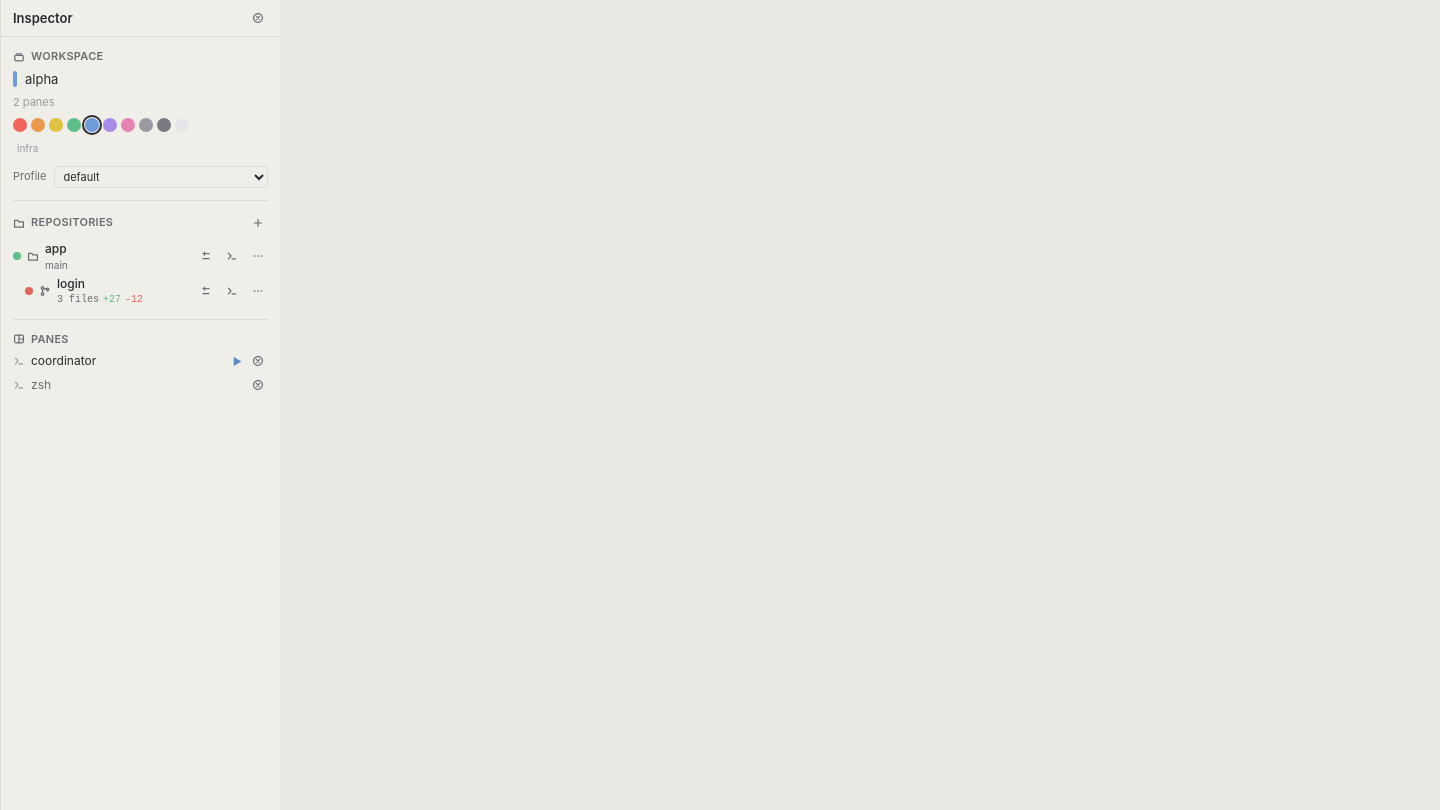
Test: repository associations (§WS-139…§WS-142) › adds a repository by path, keeping the sheet open on the daemon’s refusal
This screenshot has width=1440, height=810.
Click the button with test id "inspector-add-repo" at point(258, 223), box [248,213,268,233]
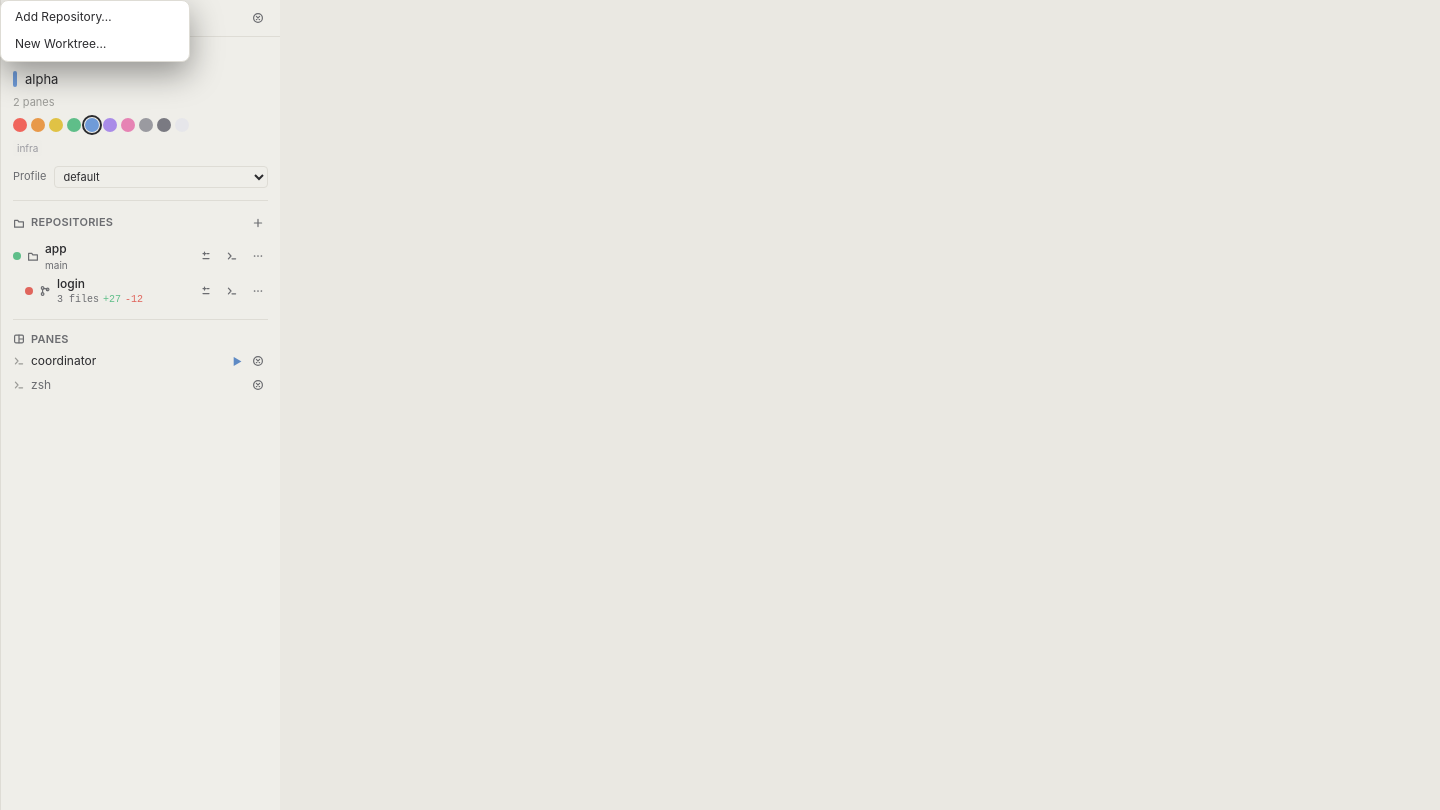
Click the menu item "Add Repository…" at point(95, 17), box [5,5,185,30]
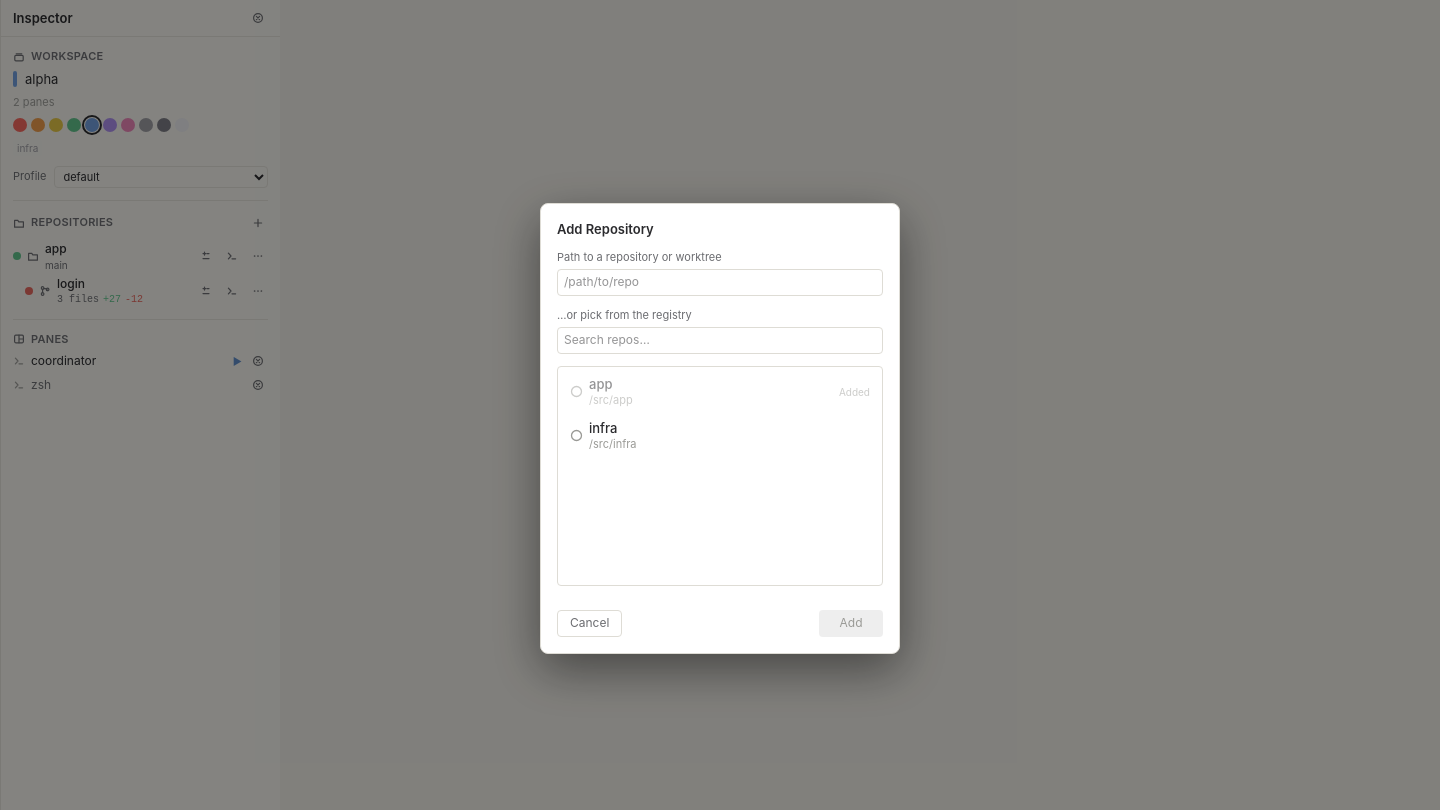
Type "/tmp/x" into the field with test id "add-repo-path" at point(720, 282), box [557,269,883,296]
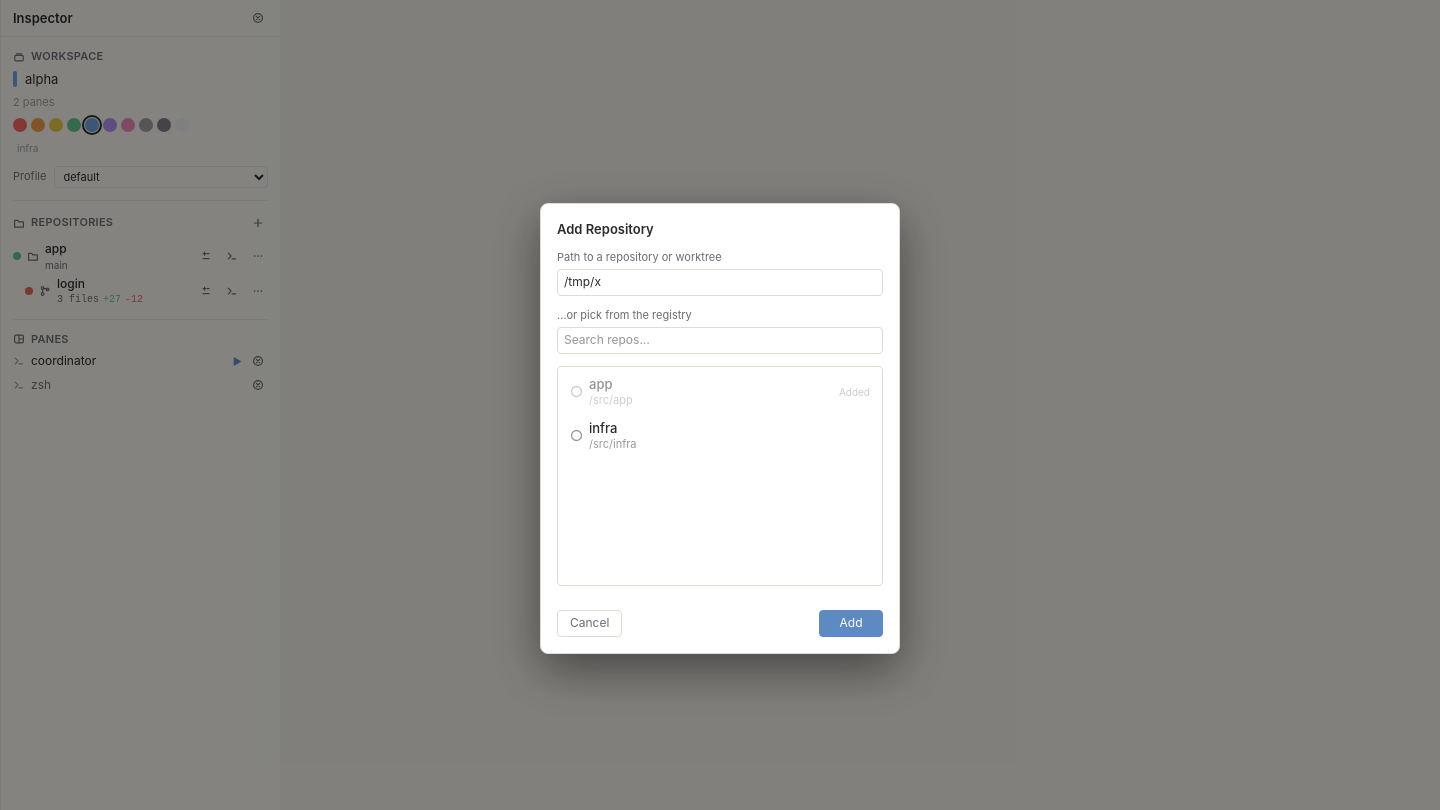
Click the button with test id "add-repo-submit" at point(851, 624), box [819,610,883,637]
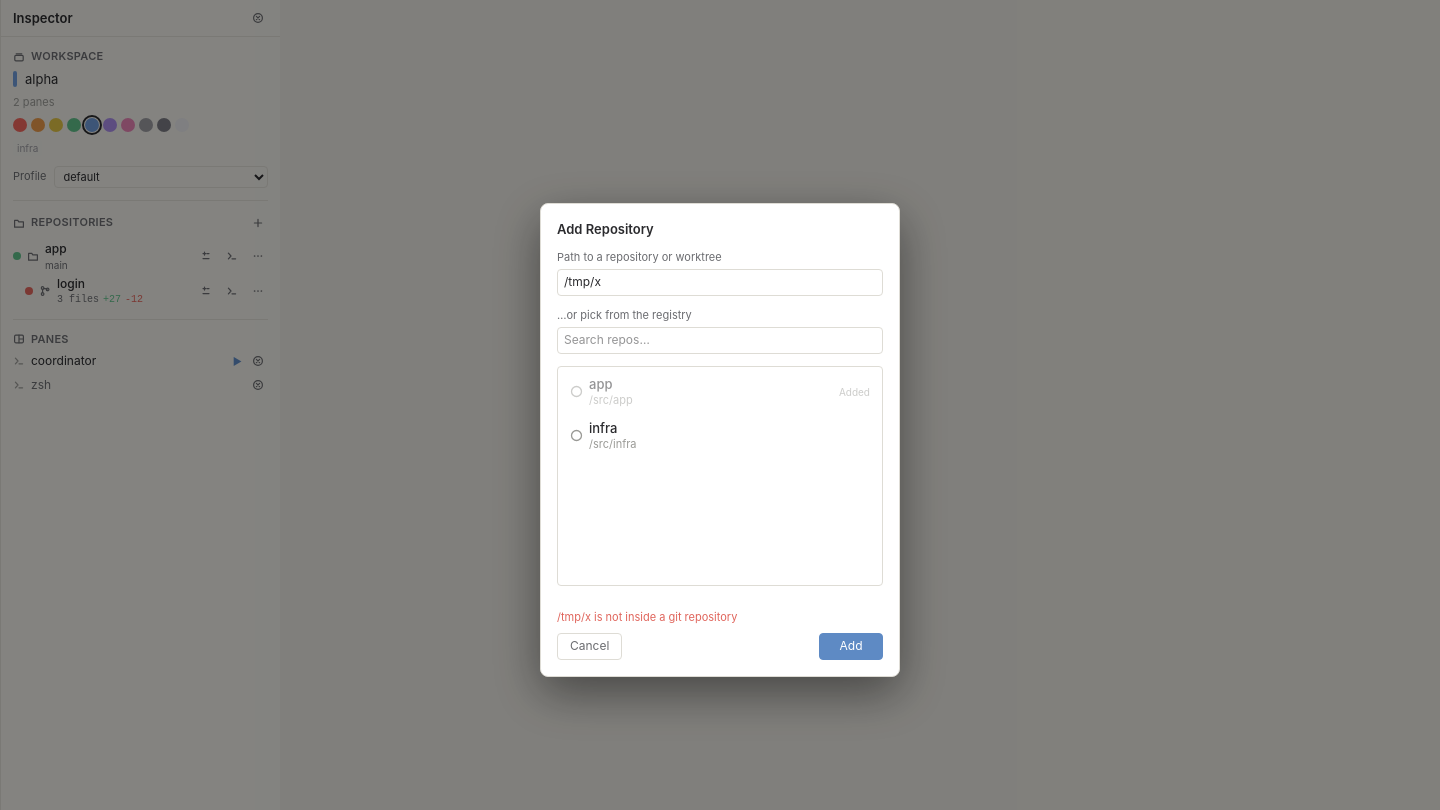
Check: the dialog with test id "add-repo-sheet" is shown, box [540,202,900,677]
Check: the text with test id "sheet-error" shows "not inside a git repository", box [557,610,737,624]
Replace the text in the field with test id "add-repo-path" with "/src/app" at point(720, 282), box [557,269,883,296]
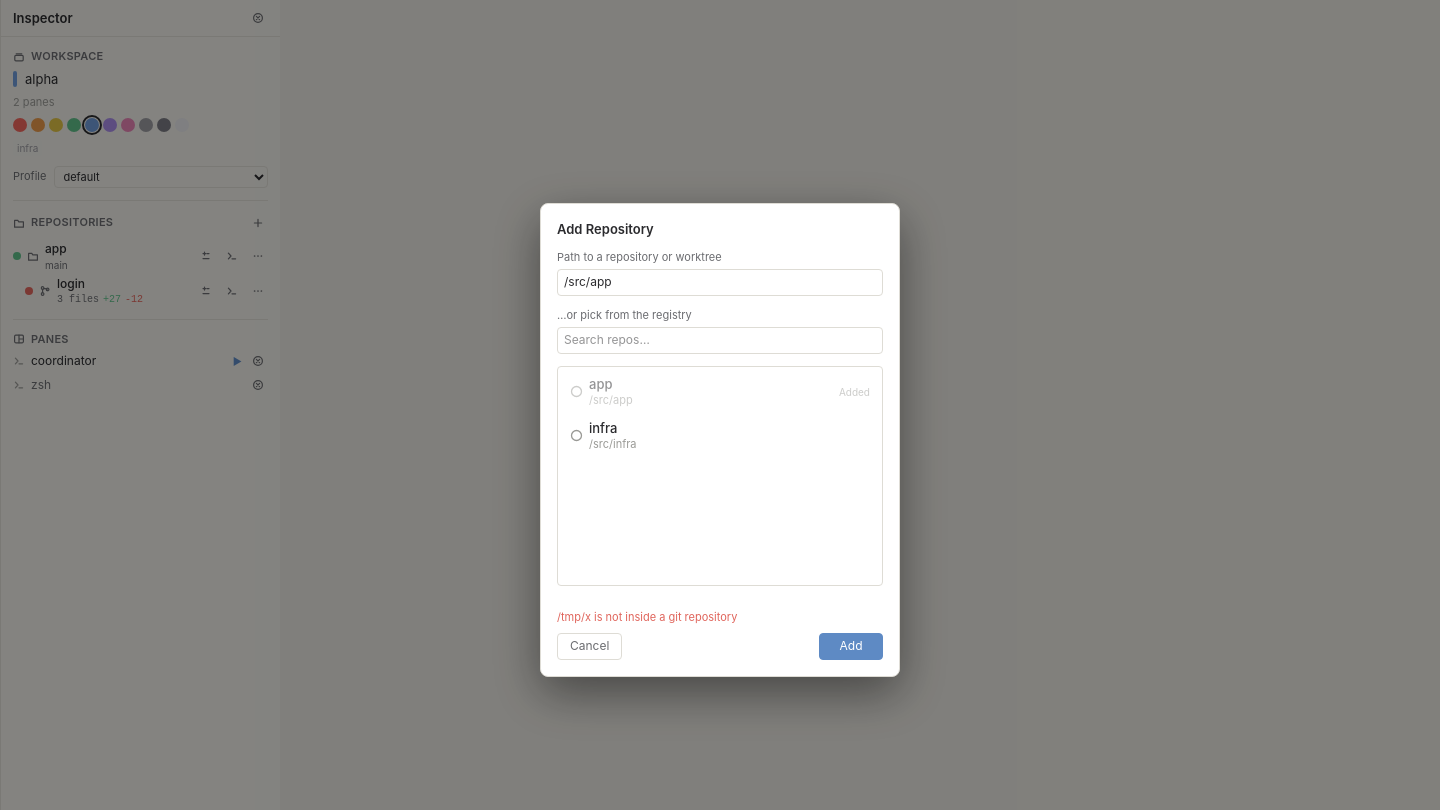
Click the button with test id "add-repo-submit" at point(851, 647), box [819,634,883,660]
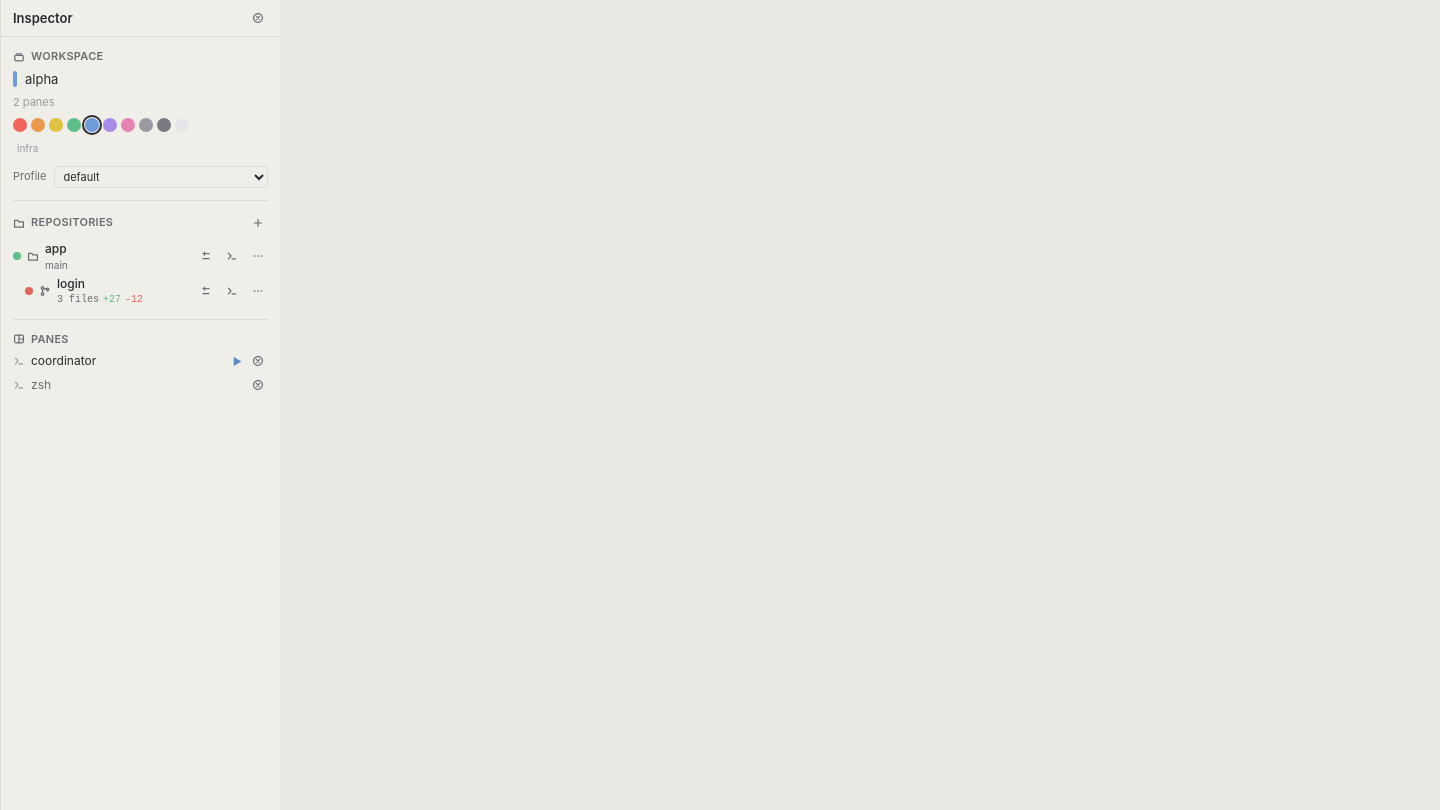
Check: the dialog with test id "add-repo-sheet" is gone
